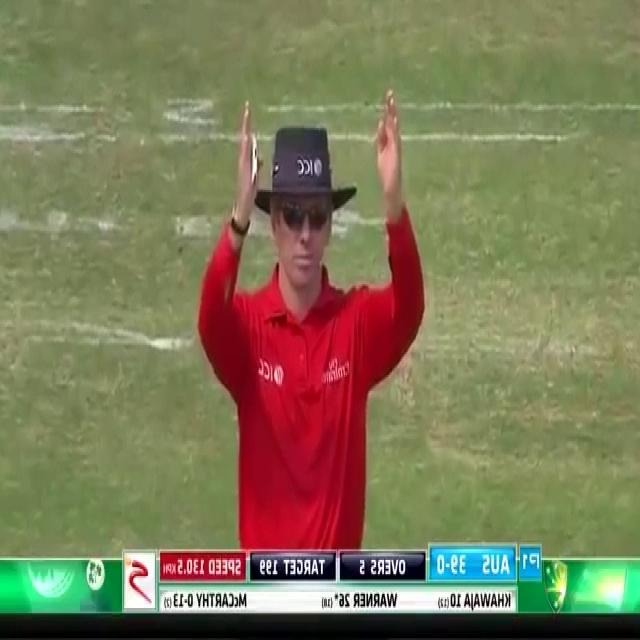Six: (193, 75, 431, 557)
